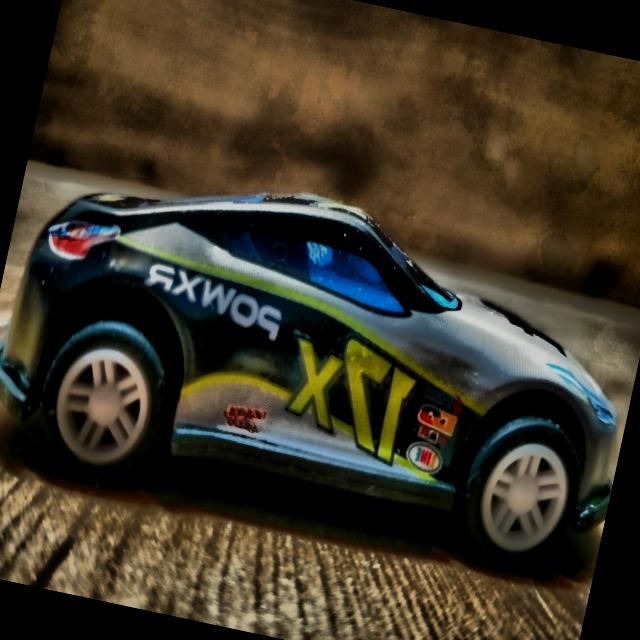Car: (0, 99, 640, 638)
